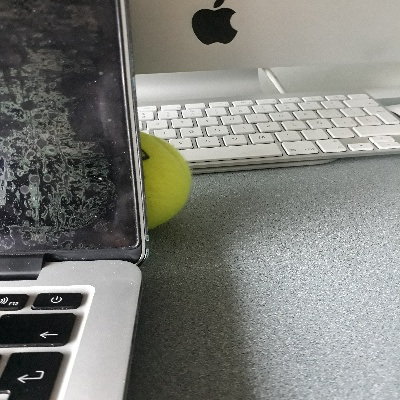Ball: (138, 132, 191, 233)
